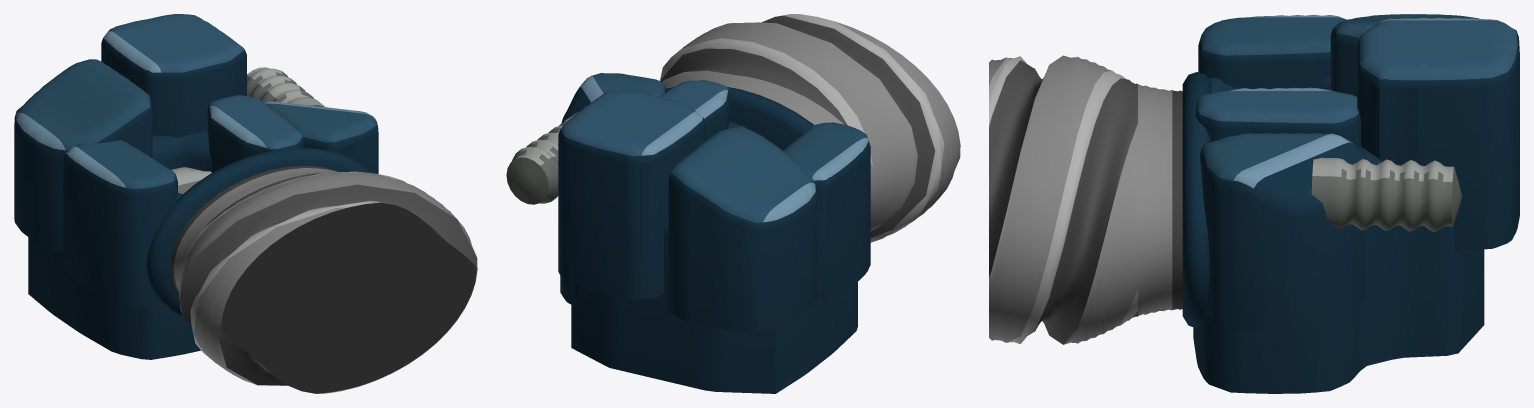
File: drillrig_head.glb
3 renders of one model, left to right at view 1: azimuth 30°, elevation 25°; view 2: azimuth 150°, elevation 25°; view 3: azimuth 270°, elevation 25°, orthographic. The views are drawn at different scales.
Visible parts, largest first — view 1: drill.001, cheek_l.001, shoulder.001, crown.001, housing.001, collar.001, middle.001, cheek_r.001, piston.001, hatch.001; view 2: drill.001, shoulder.001, crown.001, housing.001, cheek_l.001, piston.001, collar.001, middle.001, cheek_r.001; view 3: drill.001, housing.001, crown.001, cheek_r.001, piston.001, cheek_l.001, middle.001, collar.001, shoulder.001.
Part boxes in pixels (box(x1,y1,x2,y2)): drill.001: box(171, 166, 477, 393); cheek_l.001: box(63, 140, 177, 307); shoulder.001: box(14, 59, 152, 252); crown.001: box(101, 14, 246, 137); housing.001: box(28, 130, 212, 359); collar.001: box(147, 148, 370, 317); middle.001: box(207, 95, 304, 172); cheek_r.001: box(264, 101, 378, 173); piston.001: box(247, 67, 325, 107); hatch.001: box(171, 167, 211, 194); drill.001: box(660, 14, 960, 242); shoulder.001: box(668, 126, 817, 332); crown.001: box(558, 91, 705, 300); housing.001: box(560, 122, 857, 393); cheek_l.001: box(783, 122, 870, 305); piston.001: box(506, 112, 577, 204); collar.001: box(666, 87, 813, 150); middle.001: box(659, 80, 729, 140); cheek_r.001: box(561, 73, 666, 122); drill.001: box(989, 55, 1182, 344); housing.001: box(1193, 76, 1484, 393); crown.001: box(1357, 17, 1519, 250); cheek_r.001: box(1200, 133, 1367, 331); piston.001: box(1311, 157, 1461, 231); cheek_l.001: box(1198, 15, 1346, 89); middle.001: box(1195, 87, 1360, 148); collar.001: box(1182, 72, 1211, 328); shoulder.001: box(1330, 14, 1479, 96).
Size of the model in its own units: 21.51 by 16.2 by 27.82.
